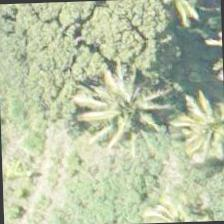Kelapa_Sawit: (78, 57, 171, 150), (159, 82, 223, 175)
